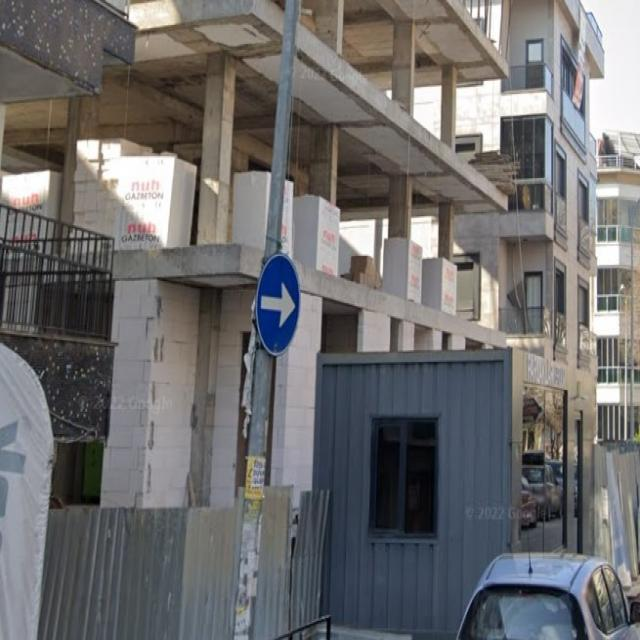Turn Right: (255, 254, 302, 357)
